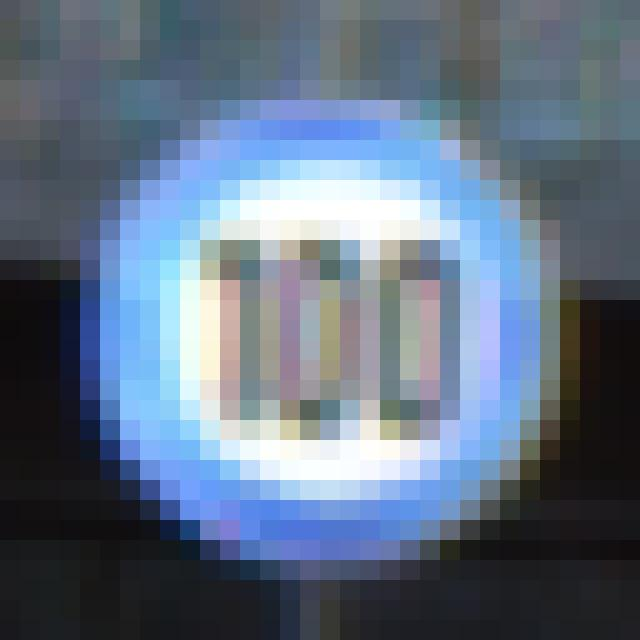SPEED LIMIT 100: (88, 103, 554, 562)
